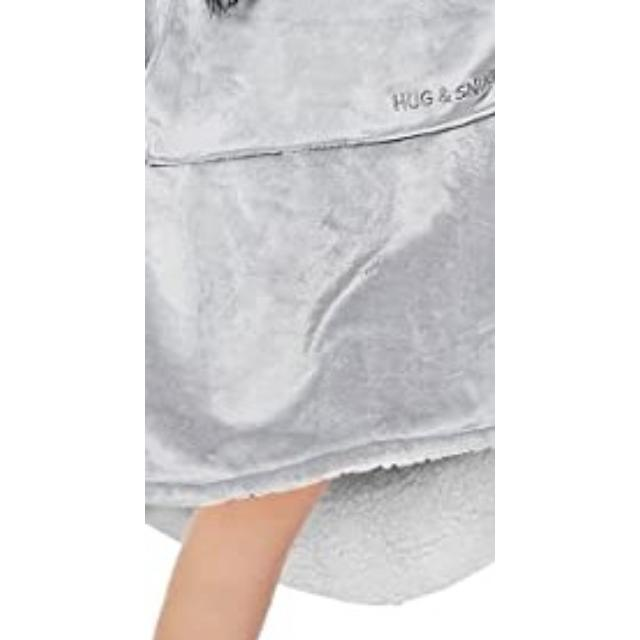polyester: (145, 1, 495, 462)
